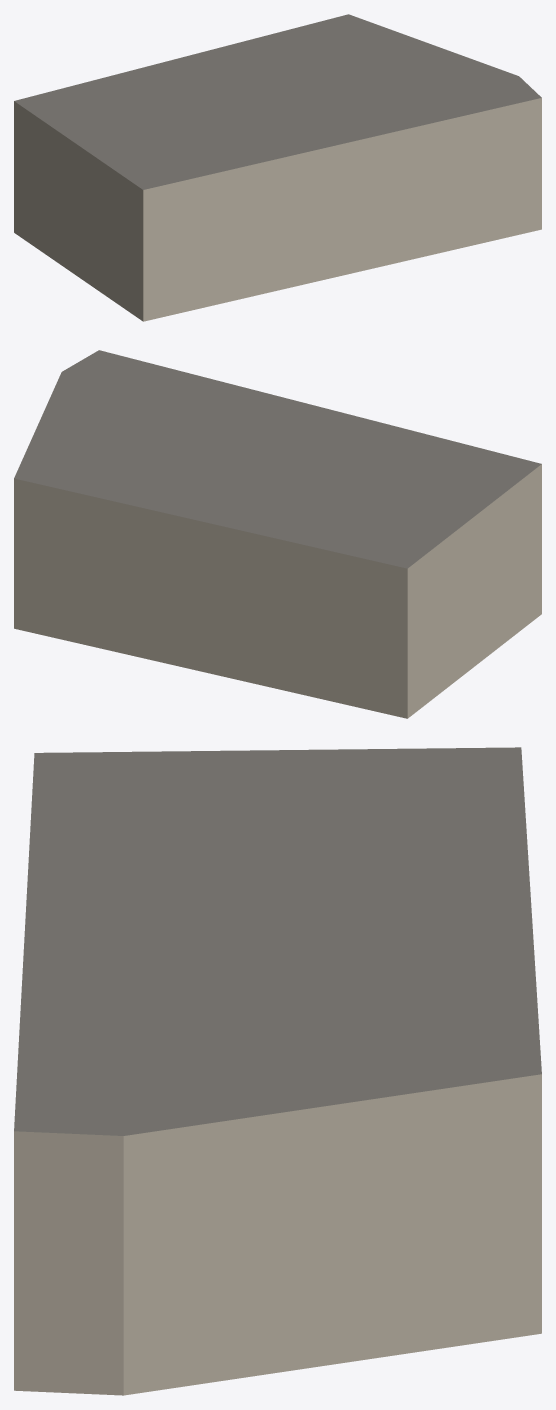
3 renders of one model, top to bottom at view 1: azimuth 30°, elevation 25°; view 2: azimuth 150°, elevation 25°; view 3: azimuth 270°, elevation 25°, orthographic. The views are drawn at different scales.
Parts seen in each view (by area): view 1: HP-w369342595; view 2: HP-w369342595; view 3: HP-w369342595.
Part boxes in pixels (x1,y1,x2,y2): HP-w369342595: (14,14,541,321); HP-w369342595: (14,350,541,718); HP-w369342595: (14,747,541,1395).
Bounding box in the file's own units: 57.82 × 18 × 33.2.
